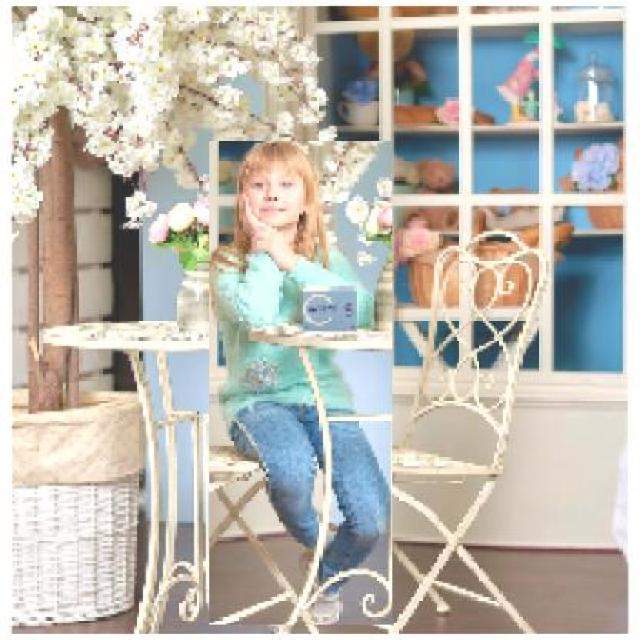child: (208, 140, 392, 626)
